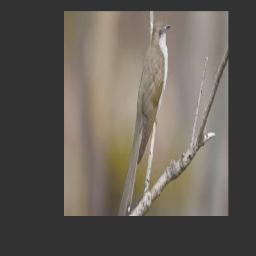Cuckoo: (119, 21, 172, 216)
